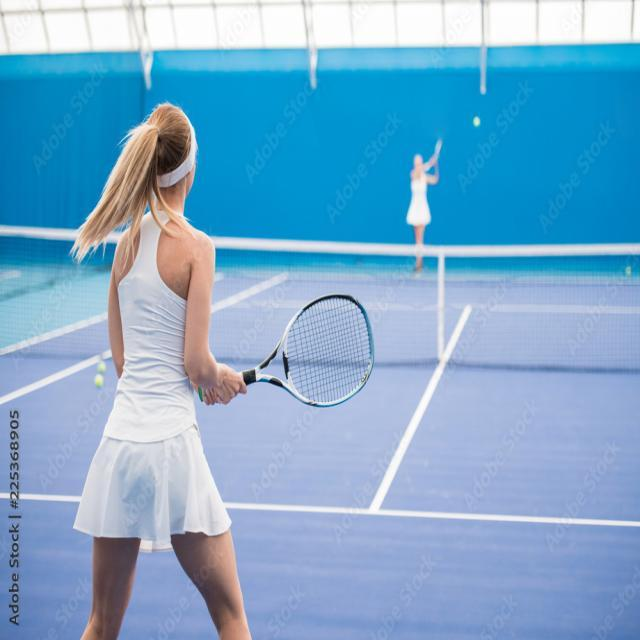net: (0, 214, 640, 390)
player: (70, 96, 382, 640)
